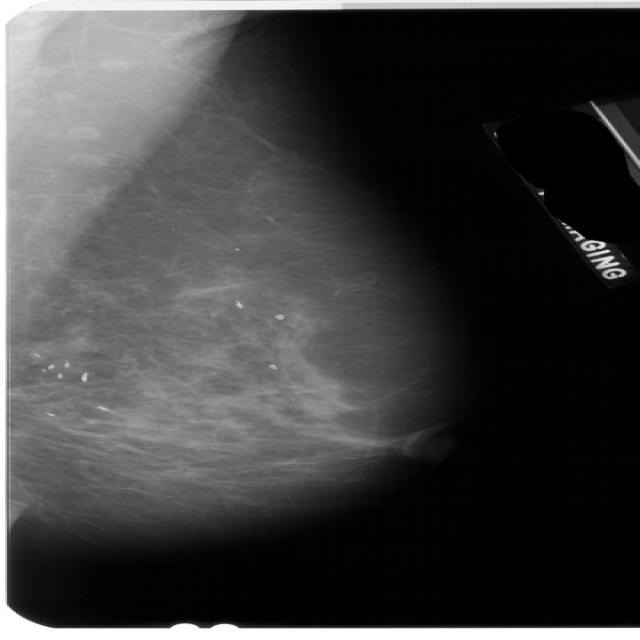tumour: (297, 398, 336, 419)
